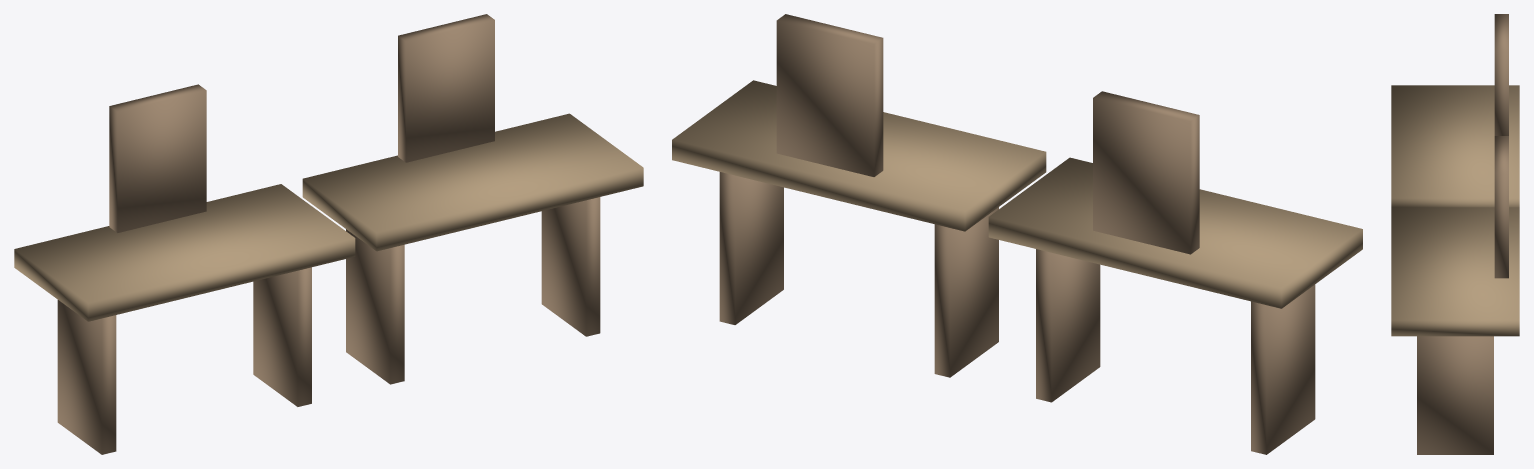
The model's file is altar_table__cluster.glb.
3 renders of one model, left to right at view 1: azimuth 30°, elevation 25°; view 2: azimuth 150°, elevation 25°; view 3: azimuth 270°, elevation 25°, orthographic. The views are drawn at different scales.
Visible parts, largest first — view 1: world; view 2: world; view 3: world.
Part boxes in pixels (x1=…): world: x1=14, y1=14, x2=643, y2=454; world: x1=672, y1=14, x2=1362, y2=454; world: x1=1391, y1=14, x2=1519, y2=454.
Size of the model in its own units: 3.12 by 1.59 by 0.72.
